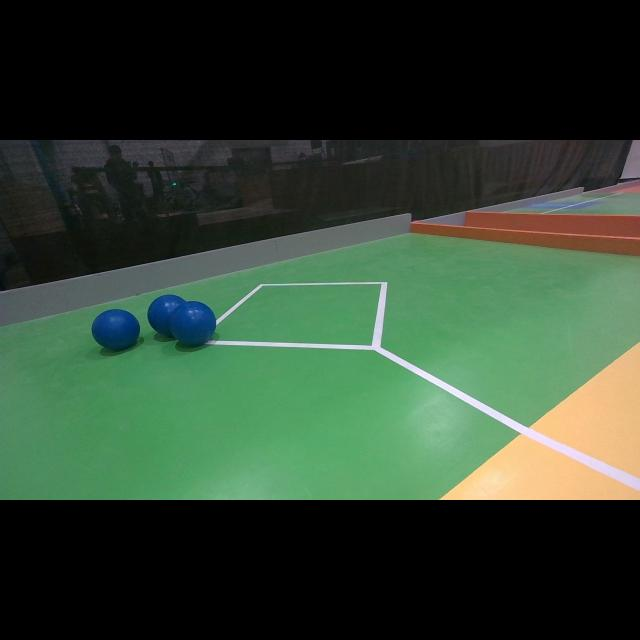B: (170, 302, 217, 346), (92, 309, 140, 351), (146, 293, 187, 337)
